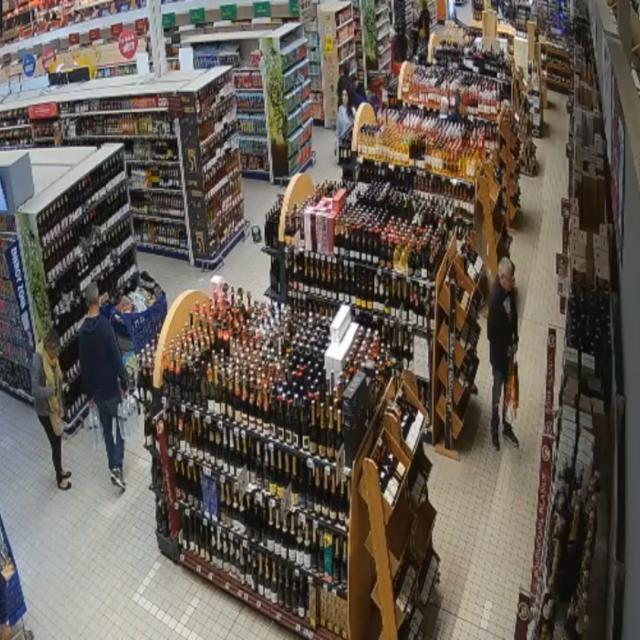article: (116, 395, 139, 440), (88, 408, 104, 452)
bags: (505, 357, 519, 424), (50, 412, 64, 436)
hands: (46, 386, 55, 397), (57, 409, 64, 420), (89, 399, 95, 409), (122, 390, 128, 399), (513, 342, 517, 355)
person: (80, 283, 127, 489), (32, 329, 71, 490), (487, 258, 518, 450), (336, 89, 354, 152), (338, 64, 353, 108)
